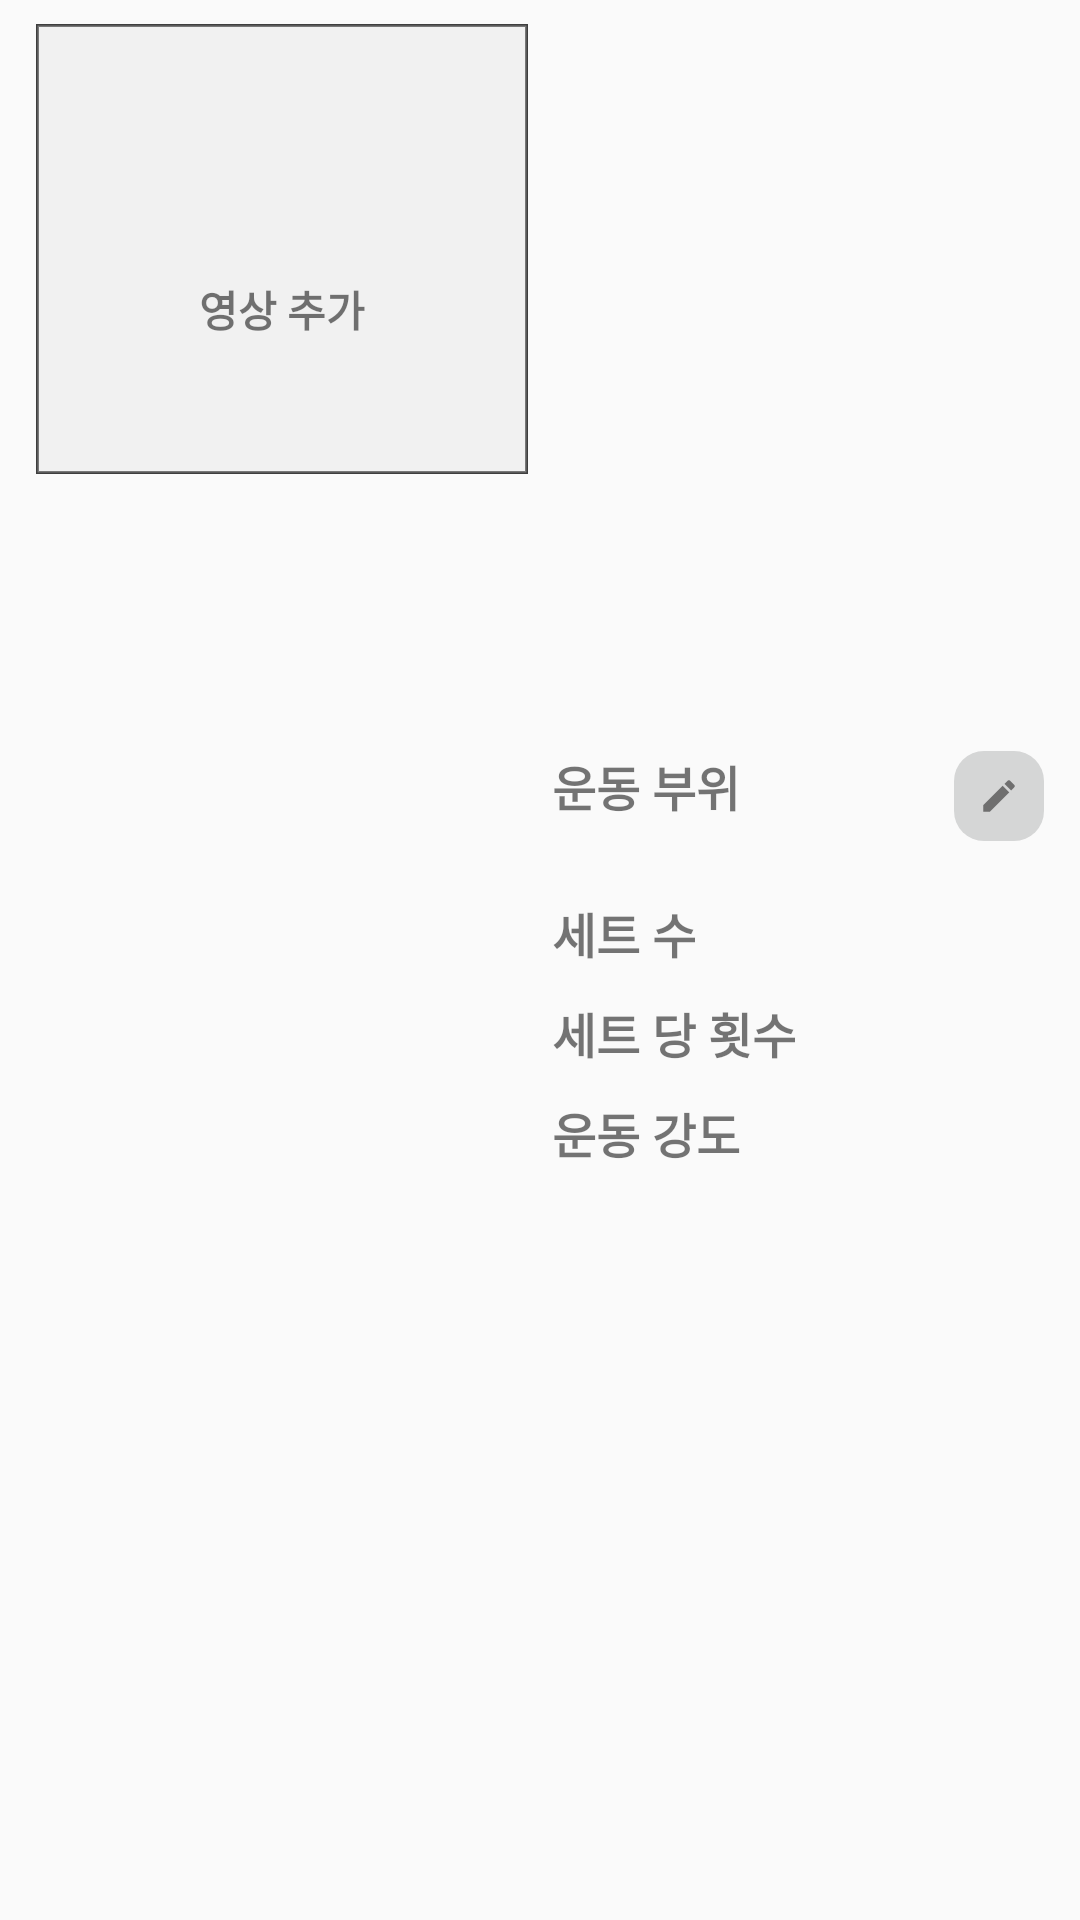

Named icons in this screenshot (1080×1920) and their centers, [x,y]:
pen edit: [999,796]
